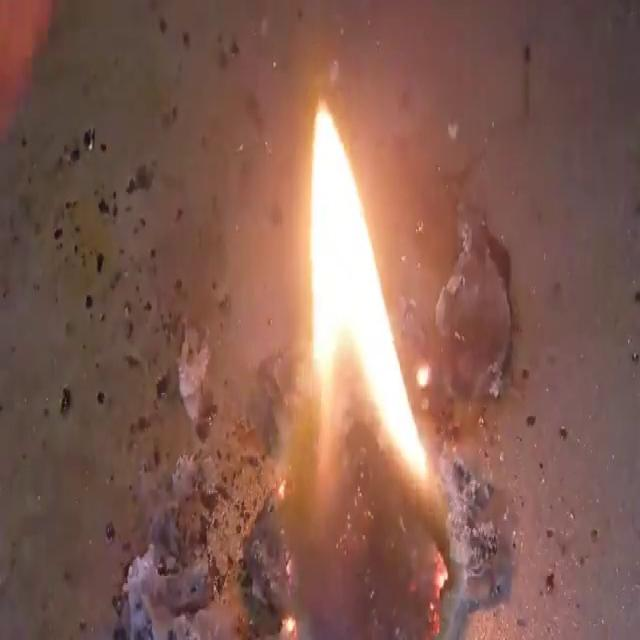Fire: (3, 4, 637, 636), (301, 94, 431, 489)
